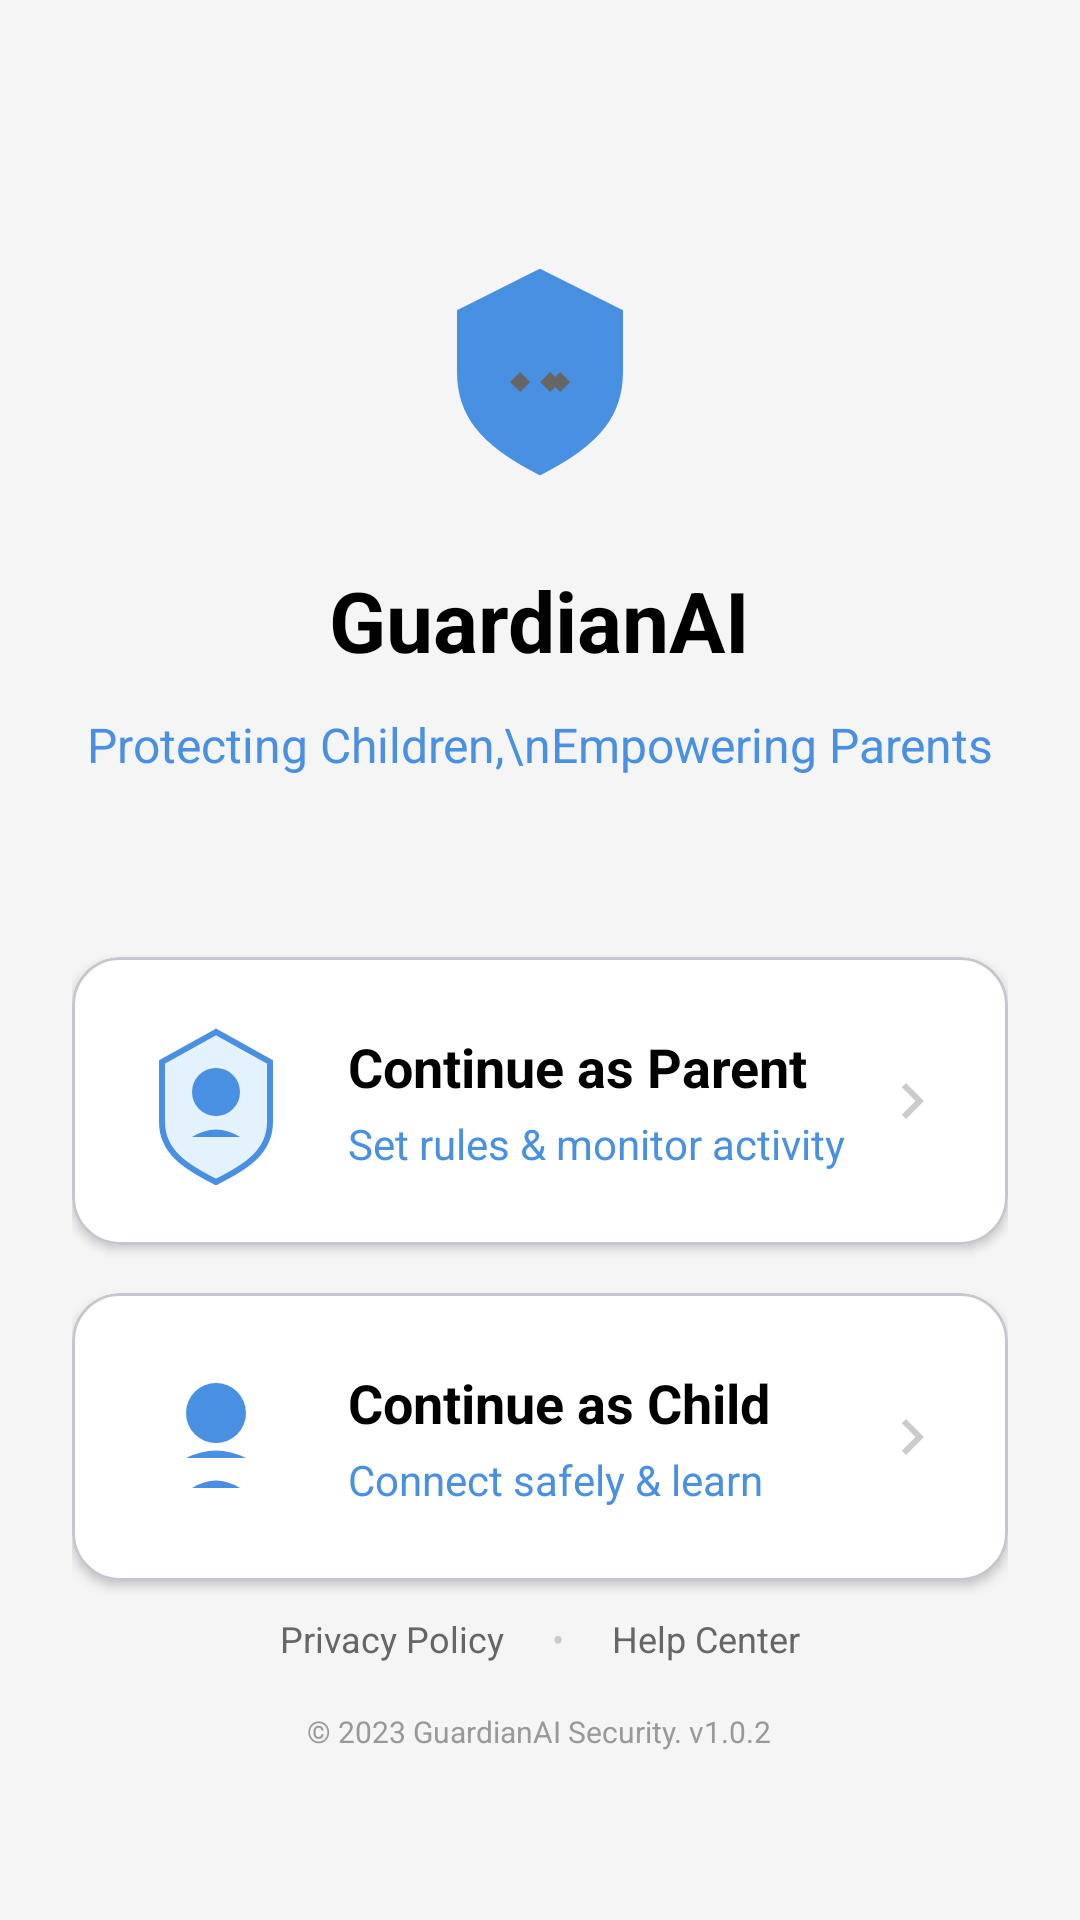

Where icons sit on this 1080w x 1920h app screen, as (x1,y1,x2,y2):
Arrow: (902,1083,924,1119), (902,1419,924,1455)
